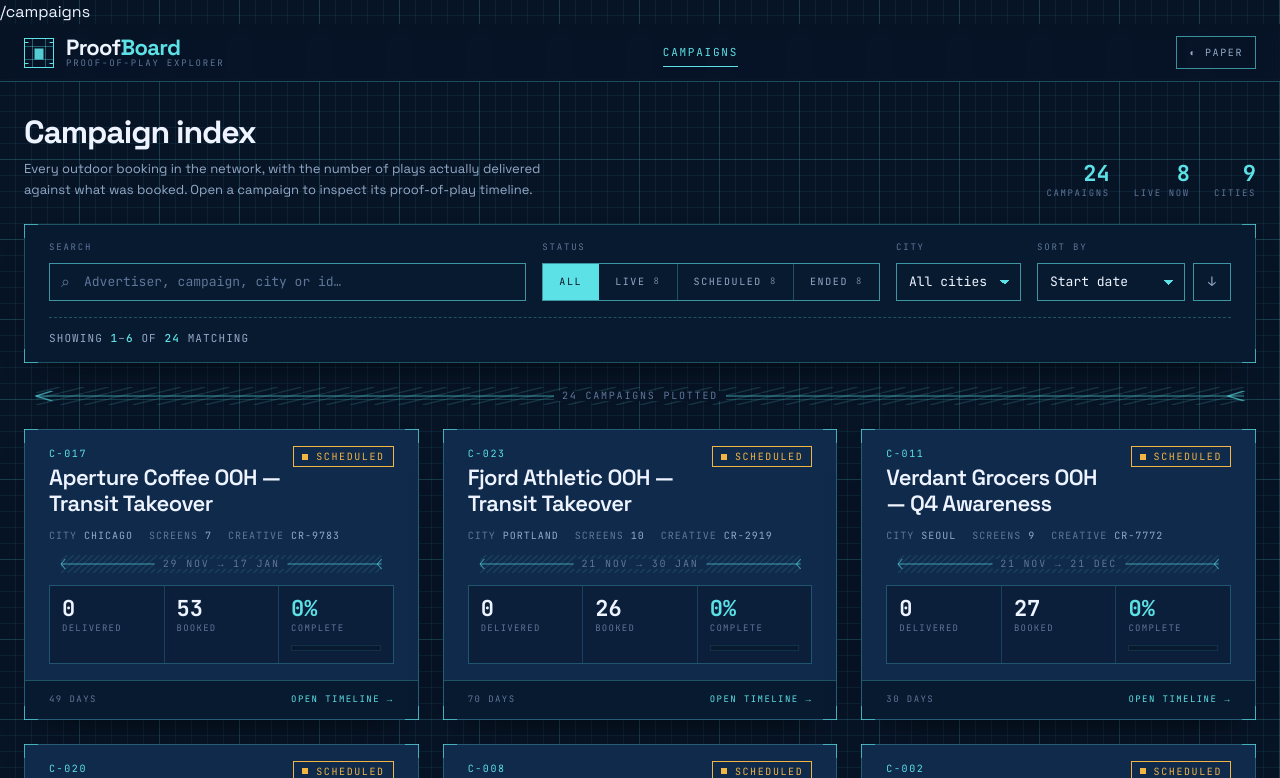
Test: campaign index route › searches from the URL and shows an empty state when nothing matches
Type "zzzz-no-such-campaign" into the search field labelled "Search". click: (288, 282)
box: [49,263,526,301]
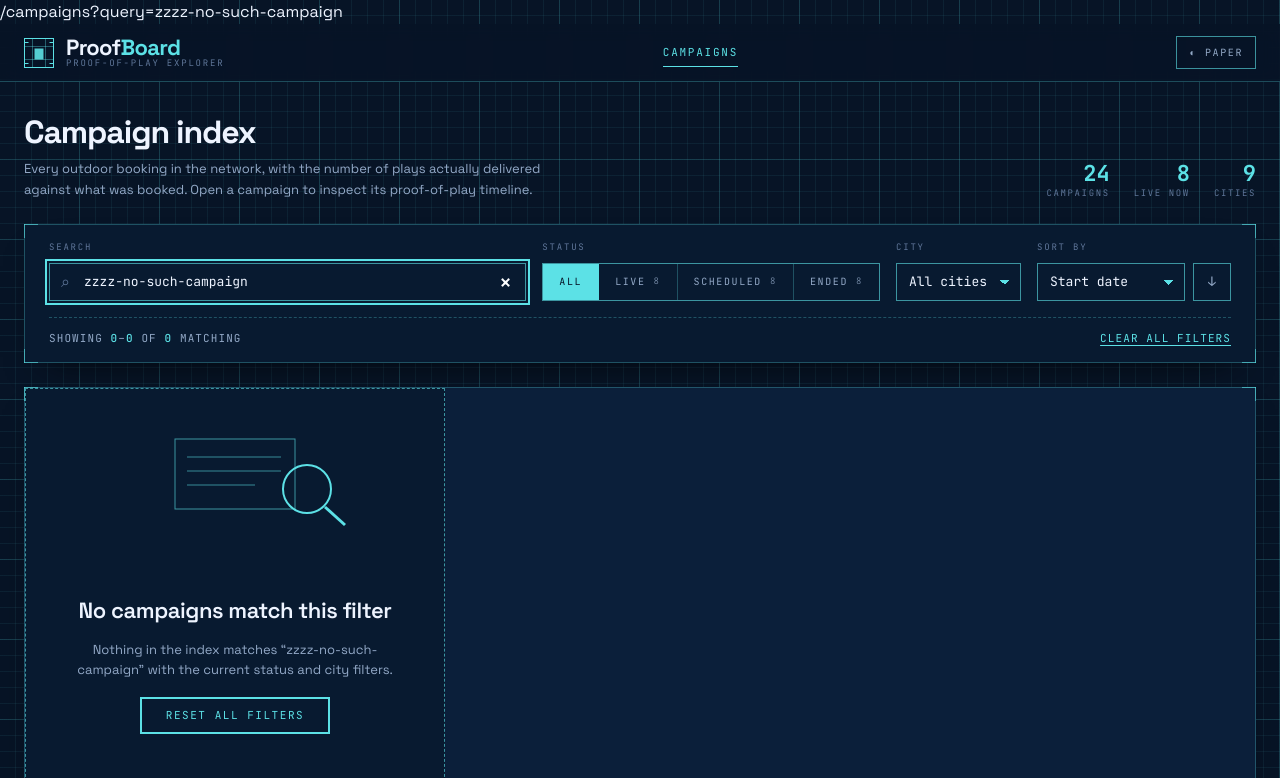
Expected: the heading "No campaigns match this filter" is shown, [79,598,391,624]
